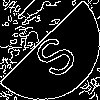S: (25, 25, 81, 82)
